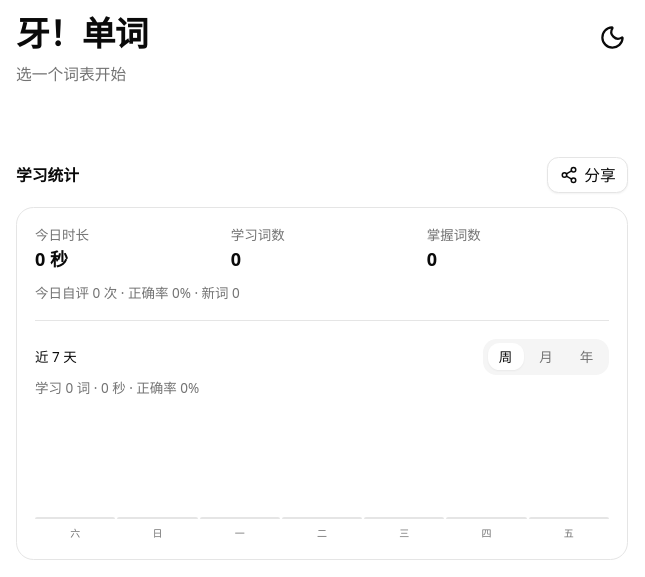
选词表页 › 周月年三个区间都能切，柱子数量跟着变
Expected: the heading "学习统计" is shown, [16,164,79,186]
Click the radio button labelled "月": [546, 357] box [528,344,564,370]
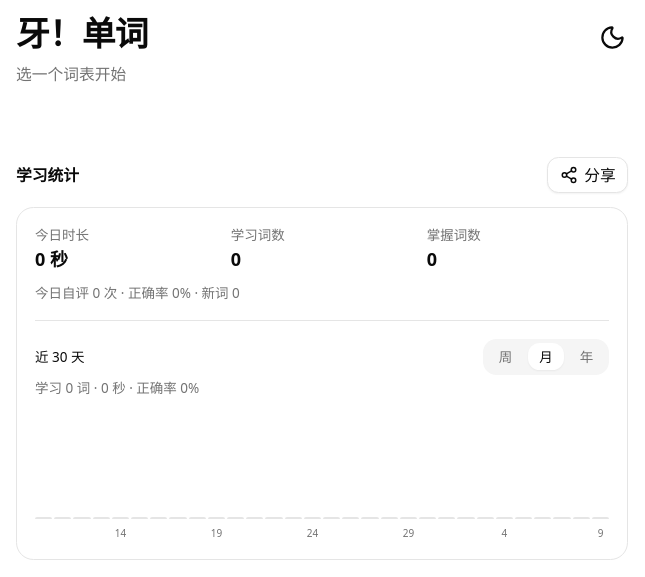
Click the radio button labelled "年": [586, 357] box [568,344,604,370]
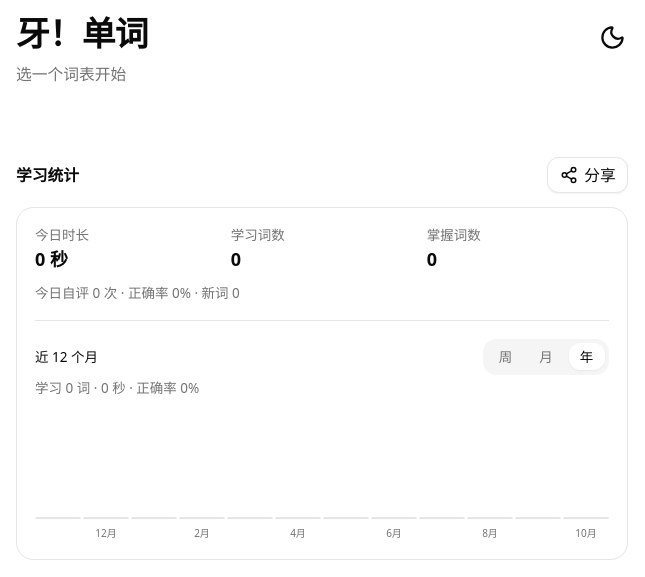
Now the number of buttons named "2025 年 11 月，学习 0 词" is 12
